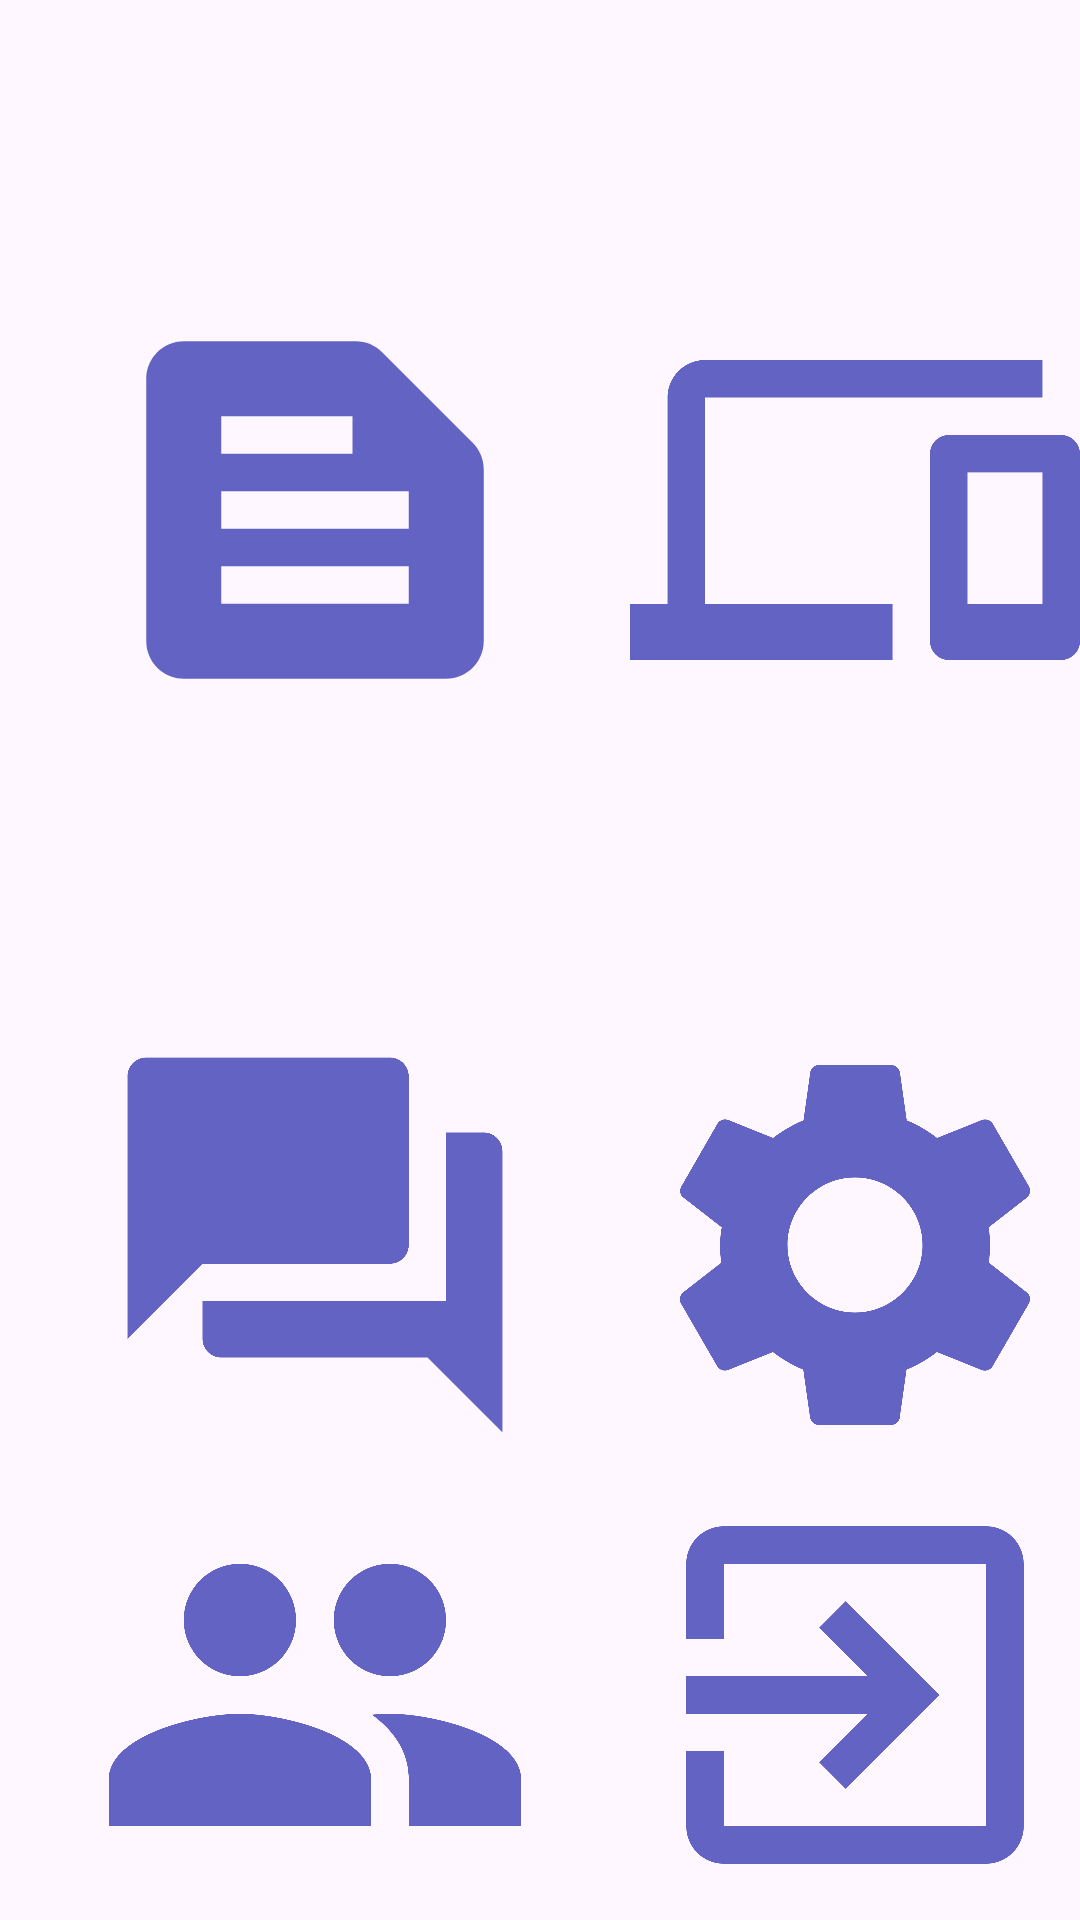

Named icons in this screenshot (1080px×1920px) and their bounding boxes, (left=x1, top=y1, right=x2, bottom=y2):
Report: (left=146, top=341, right=484, bottom=679)
settings: (left=680, top=1065, right=1030, bottom=1425)
